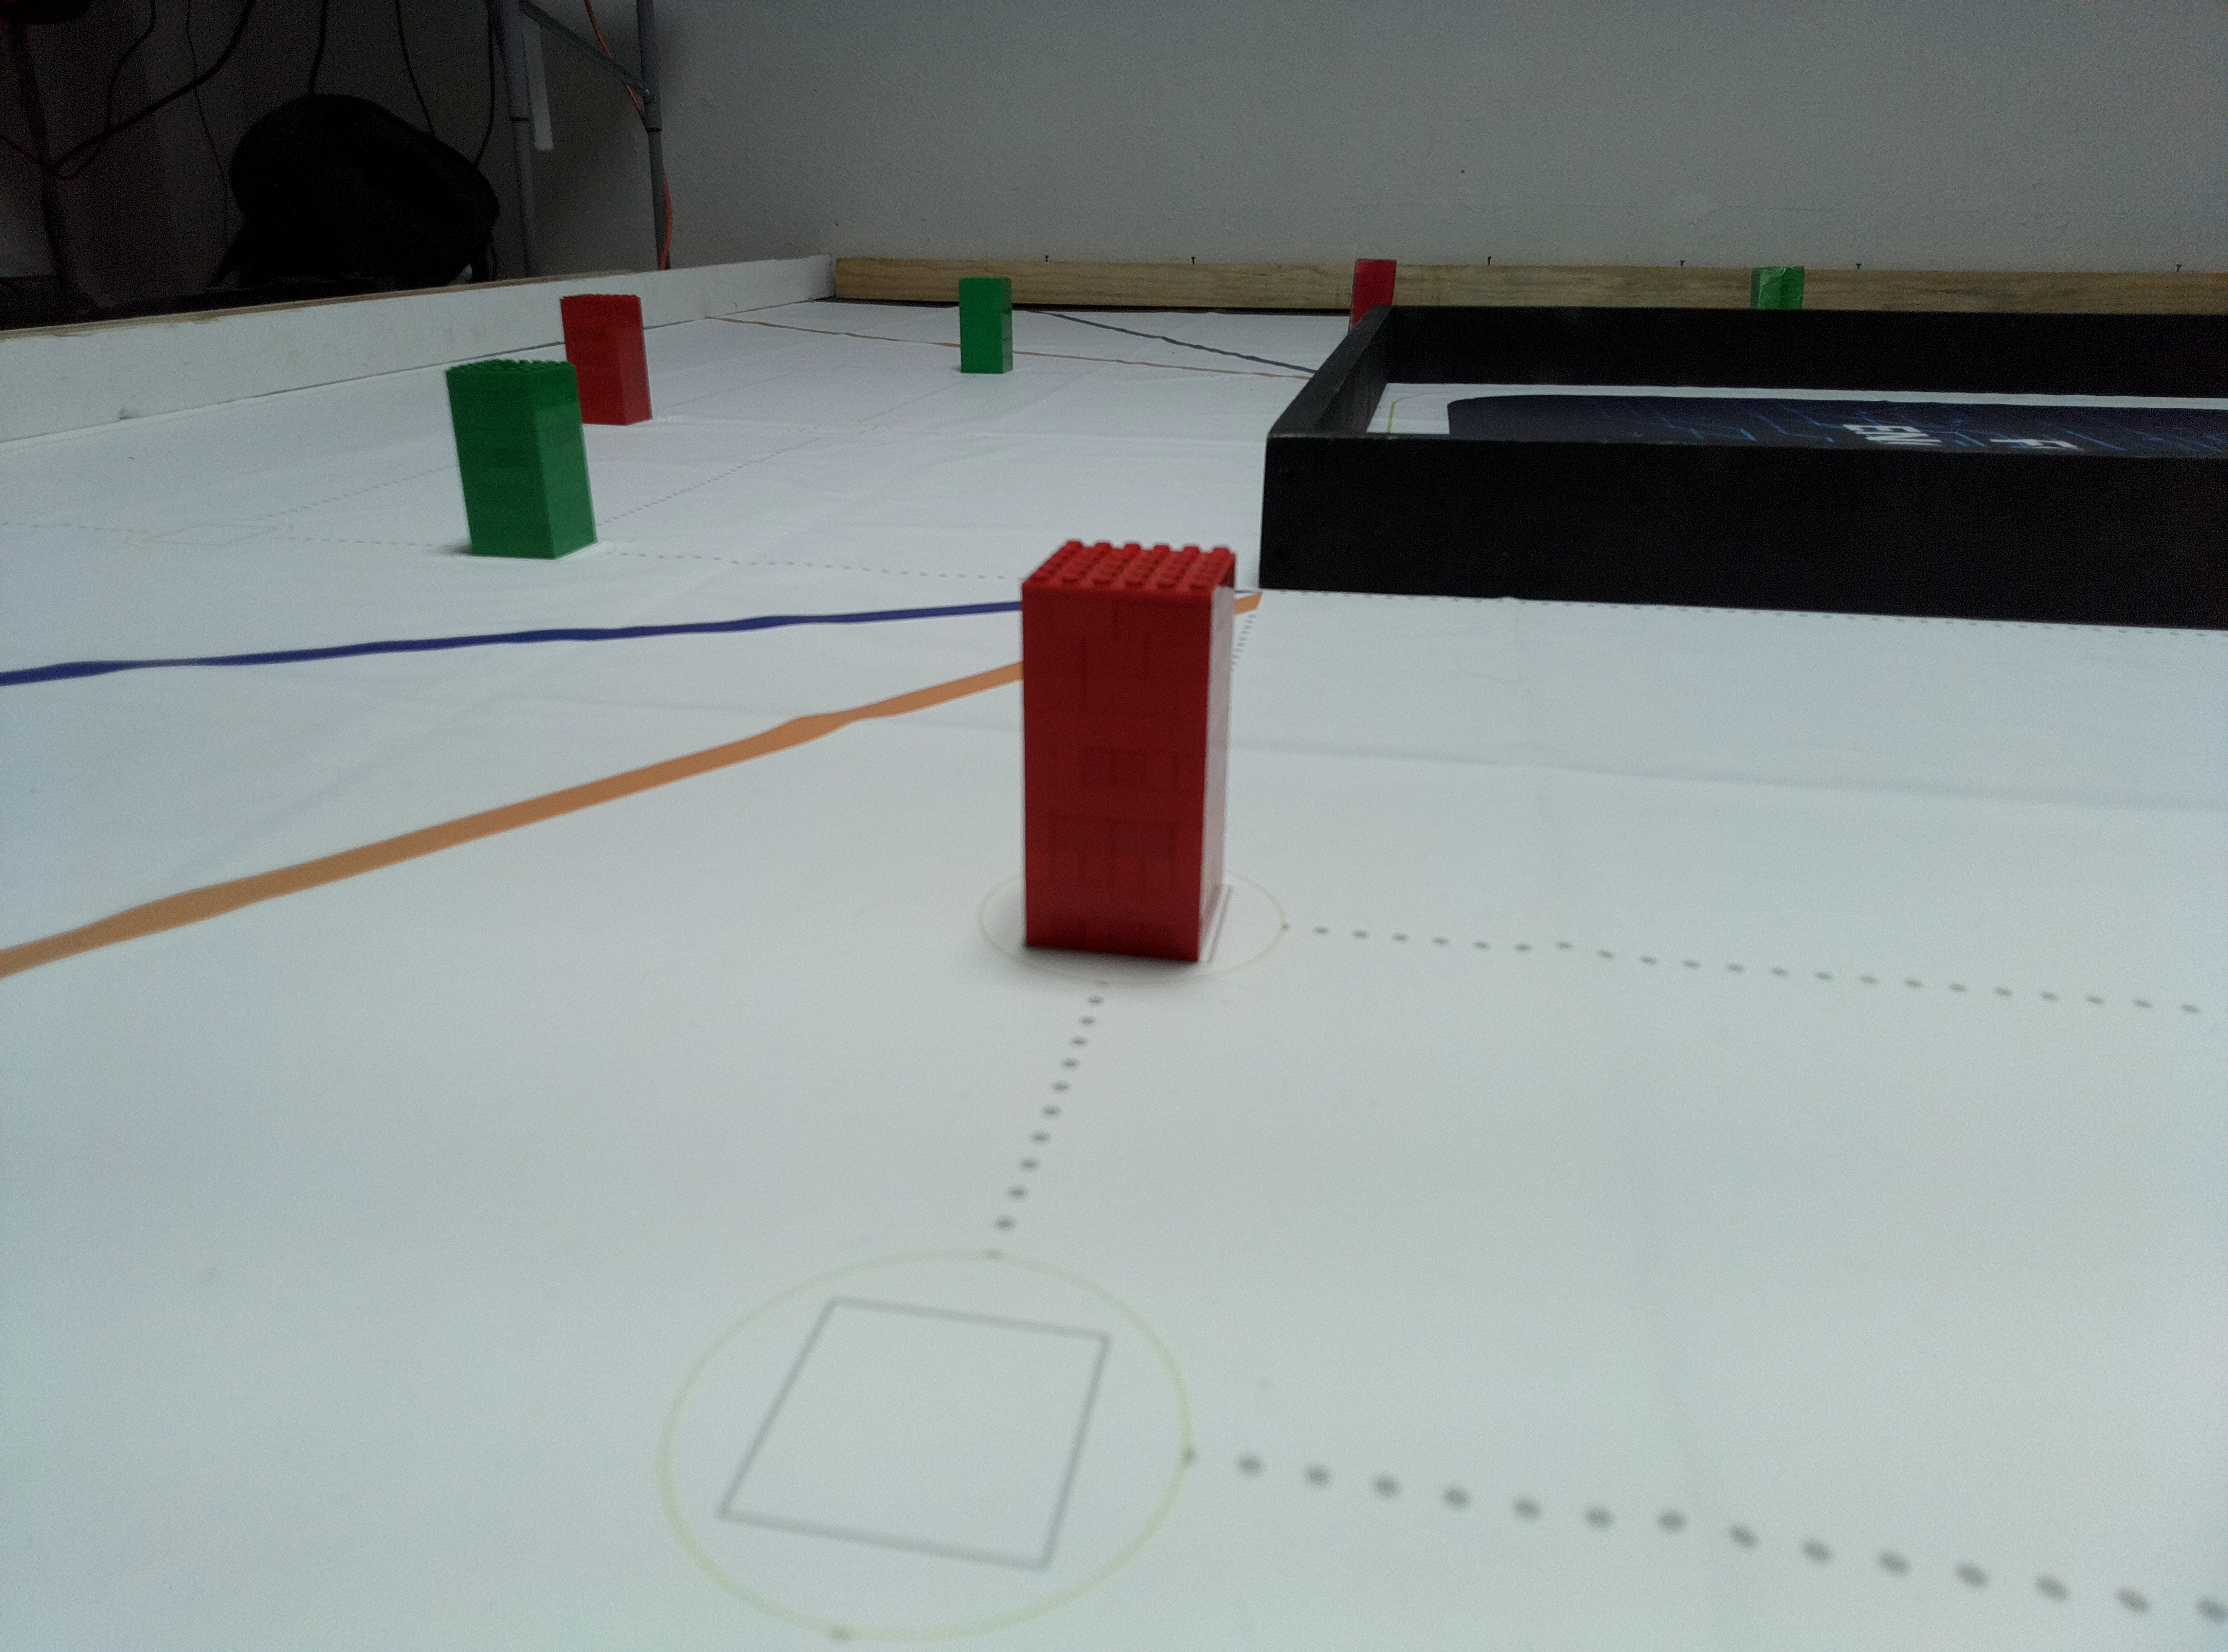greenbox: (441, 357, 600, 562), (958, 276, 1013, 375), (1747, 260, 1805, 311)
redbox: (557, 295, 658, 425), (1350, 255, 1397, 307)
